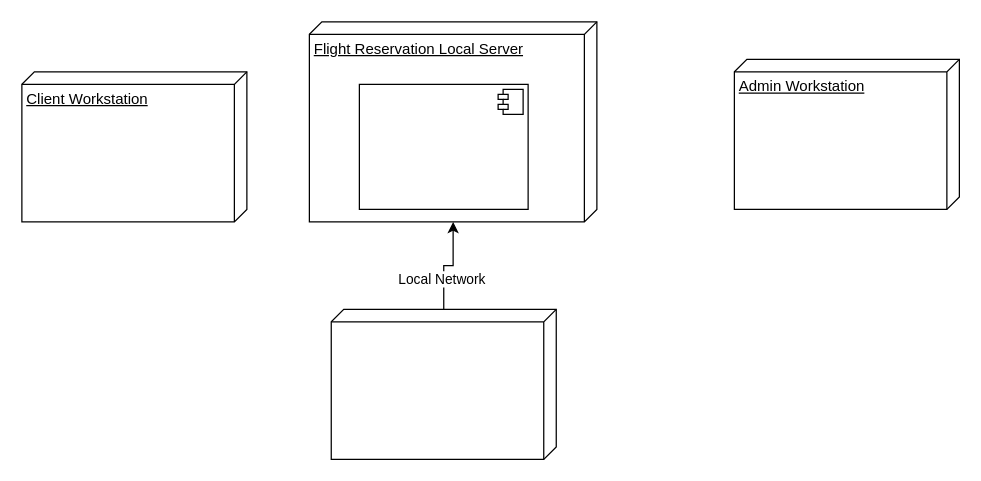
The diagram is 981 pixels wide and 481 high, and some of its shapes have lost their labels. The shapes that lost their labels are listed below. From the top down, each one's centre as x and y in pixels, then its label:
At (x=443, y=146): "Component + Booking Service: Type + Manage Flight Service: Type".
At (x=443, y=383): "Database Server".
